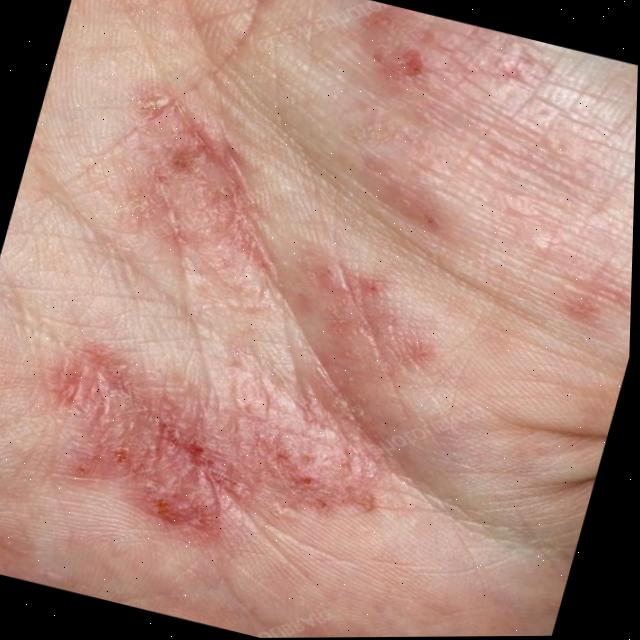Eczema: (0, 74, 507, 604)
